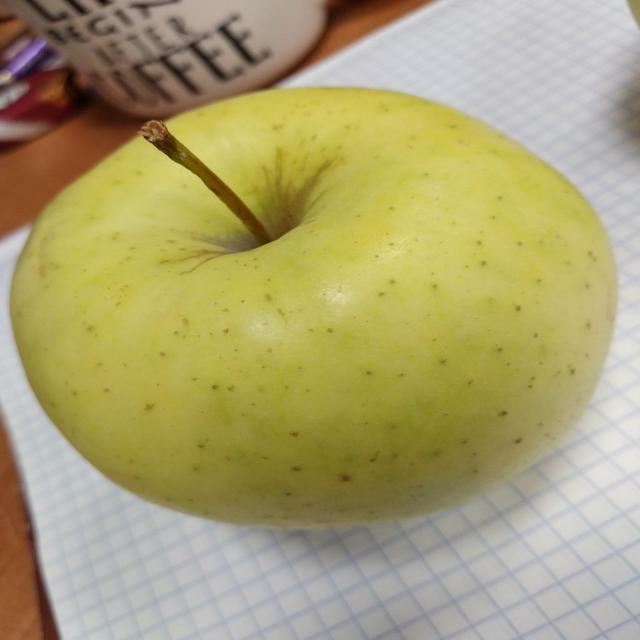Fresh Apple: (30, 106, 597, 522)
